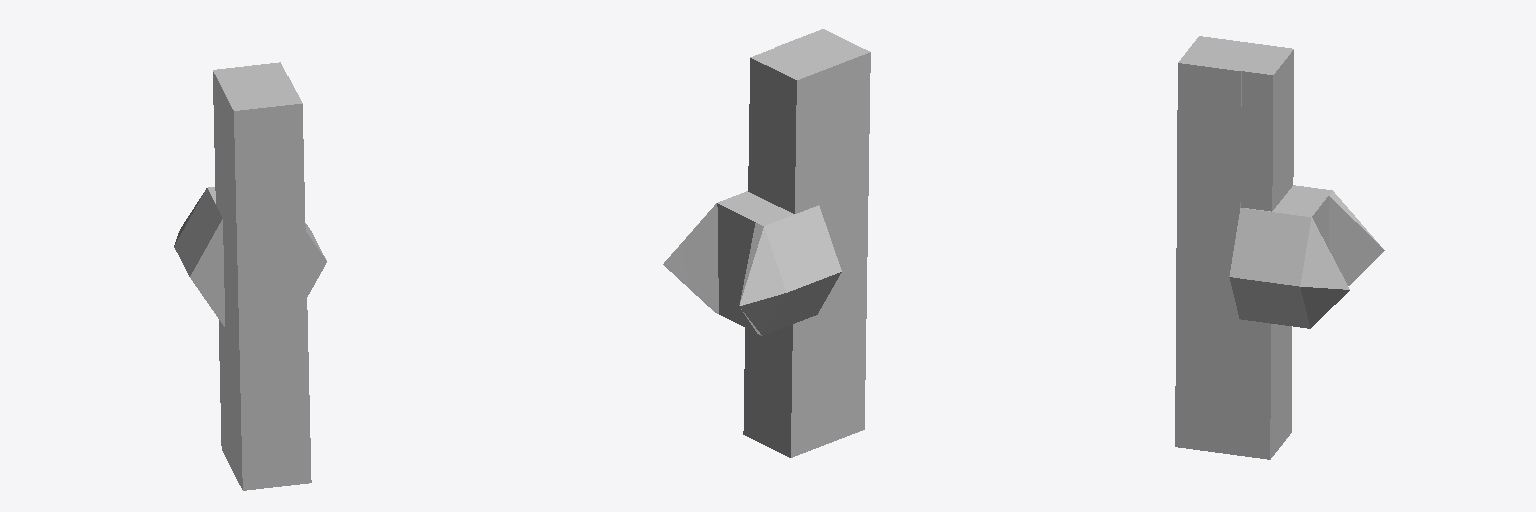
The model's file is GasSac_Valve_Openned_Highlight.obj.
The picture shows the model from 3 angles: view 1: azimuth 30°, elevation 25°; view 2: azimuth 150°, elevation 25°; view 3: azimuth 270°, elevation 25°; orthographic projection.
Visible parts, largest first — view 1: Mesh1 Model; view 2: Mesh1 Model; view 3: Mesh1 Model.
Part boxes in pixels (left/top/right/bottom): Mesh1 Model: left=174, top=62, right=326, bottom=490; Mesh1 Model: left=663, top=29, right=870, bottom=457; Mesh1 Model: left=1175, top=36, right=1384, bottom=459.
Size of the model in its own units: 0.0147 by 0.0382 by 0.019.